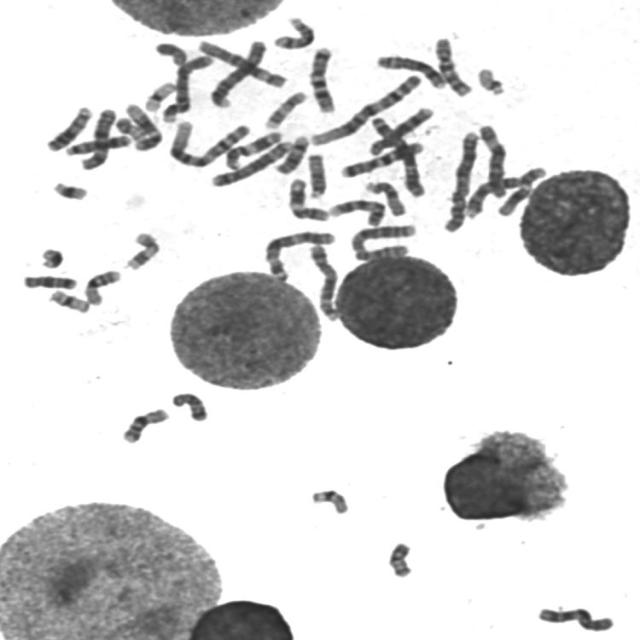A1: (306, 71, 425, 148), (164, 116, 252, 169)
A2: (440, 127, 482, 234), (347, 220, 421, 263)
A3: (366, 112, 428, 198), (259, 227, 339, 282)
B4: (206, 36, 268, 108), (157, 50, 216, 124)
B5: (206, 136, 297, 188), (304, 241, 343, 322)
C10: (430, 33, 475, 98), (534, 606, 616, 634)
C11: (220, 126, 286, 171), (283, 174, 331, 223)
C12: (495, 164, 549, 218), (120, 100, 165, 152)
C6: (193, 36, 289, 90), (475, 121, 511, 199)
C7: (336, 137, 426, 179), (304, 43, 338, 114)
C8: (364, 104, 436, 156), (372, 51, 448, 90)
C9: (462, 175, 522, 221), (324, 195, 388, 228)
D13: (41, 102, 94, 154), (61, 130, 133, 156)
D14: (272, 132, 312, 176), (270, 14, 316, 51)
D15: (360, 178, 409, 217), (303, 150, 328, 200)
E16: (117, 404, 171, 445), (80, 266, 123, 307)
E17: (260, 88, 310, 130), (120, 228, 162, 272)
E18: (167, 388, 211, 422), (19, 271, 79, 291)
F19: (44, 286, 92, 314), (140, 78, 177, 112)
F20: (384, 538, 416, 579), (112, 114, 148, 142)
G21: (48, 178, 90, 202), (36, 244, 66, 270)
G22: (472, 64, 508, 97), (310, 486, 350, 515)
X: (76, 104, 119, 172)
Y: (150, 38, 190, 67)
